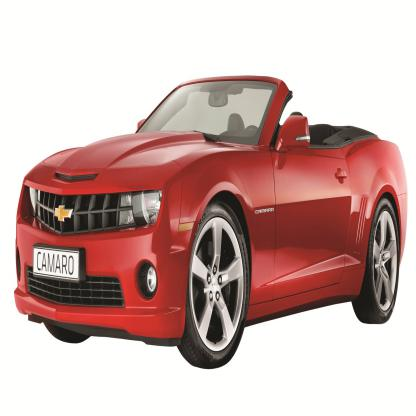Vehicle: (13, 75, 407, 378)
